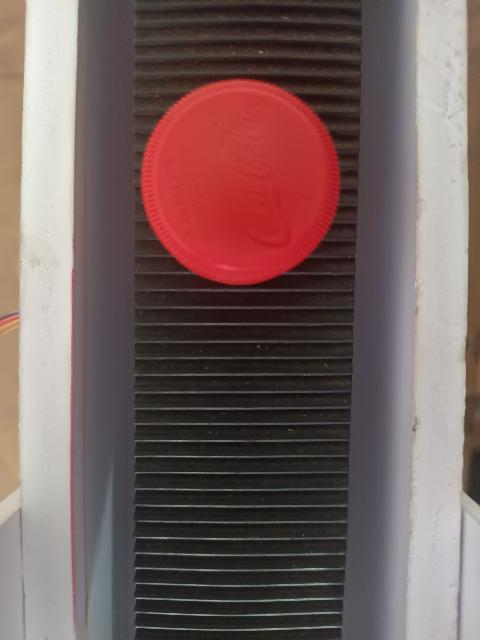bottlecap: (138, 73, 344, 287)
